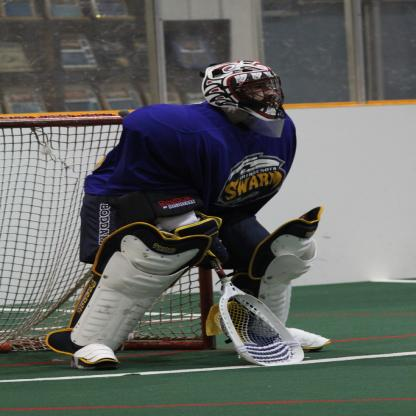Helmet: (201, 56, 285, 114)
